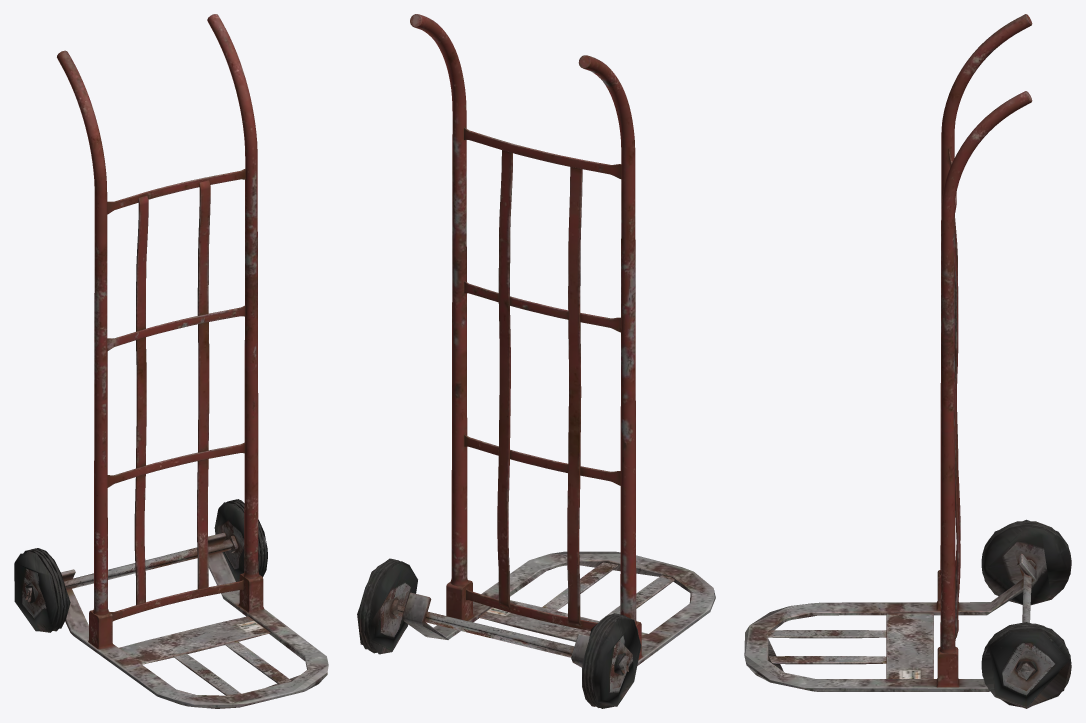
Rendered from hand_truck.glb.
The picture shows the model from 3 angles, left to right: view 1: azimuth 30°, elevation 25°; view 2: azimuth 150°, elevation 25°; view 3: azimuth 270°, elevation 25°; orthographic projection. The views are drawn at different scales.
Parts seen in each view (by area): view 1: hand_truck; view 2: hand_truck; view 3: hand_truck.
Part boxes in pixels (x1,y1,x2,y2): hand_truck: (14,14,328,708); hand_truck: (357,14,715,708); hand_truck: (744,14,1071,708).
Bounding box in the file's own units: 0.5933 × 1.4 × 0.6921.
1 material, 1 textured.
